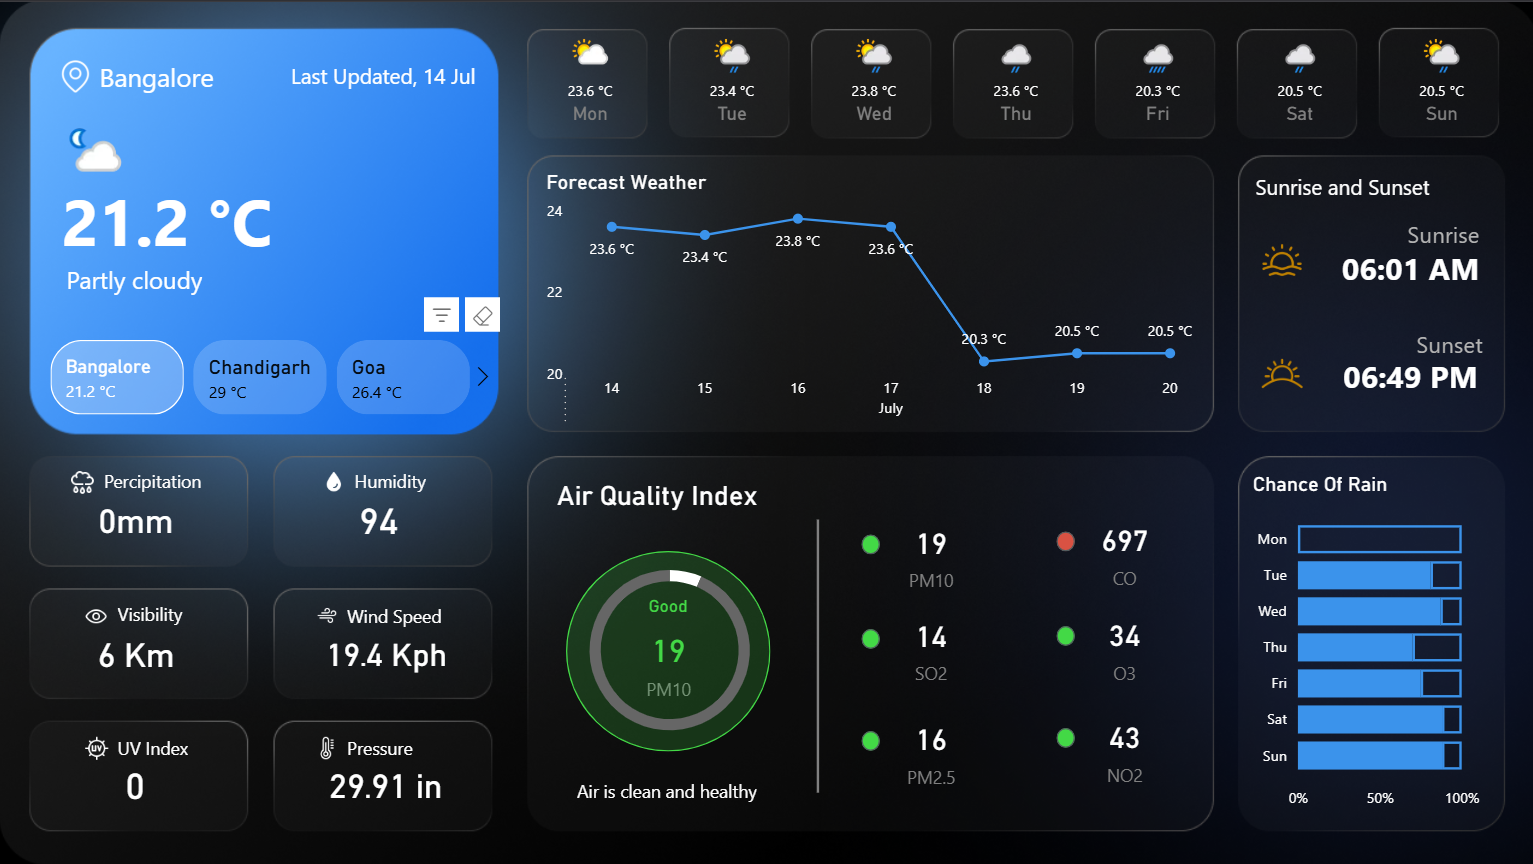

The dashboard page shown, as its layout file describes it:
{"tool":"powerbi","page":{"name":"Page 1","canvas":[1280,720],"ordinal":0},"visuals":[{"type":"advancedSlicerVisual","fields":{"Values":["Locations.location.name"]},"box":[18,276,400,72],"z":0},{"type":"shape","box":[45,131.2,260,100],"z":1000},{"type":"shape","box":[53.8,213.8,166.2,35],"z":2000},{"type":"shape","box":[81.7,43.3,166.7,35],"z":3000},{"type":"shape","box":[186.7,43.3,211.7,35],"z":4000},{"type":"image","box":[45,40,36.7,43.3],"z":5000},{"type":"cardVisual","fields":{"Data":["Min(Current.current.condition.icon)"]},"box":[31.2,66.2,100,128.8],"z":6000},{"type":"shape","box":[85.4,381,104.4,35.6],"z":7000},{"type":"image","box":[52.1,378.7,33.3,40],"z":8000},{"type":"image","box":[264.7,384.2,27.8,28.9],"z":9000},{"type":"shape","box":[292.5,380.8,104.4,35.6],"z":10000},{"type":"image","box":[61.1,495.7,38.8,31.2],"z":11000},{"type":"shape","box":[96.1,491.9,105,35],"z":12000},{"type":"image","box":[256.2,496.4,34.3,27.1],"z":13000},{"type":"shape","box":[286.9,492.1,105,35],"z":14000},{"type":"image","box":[63.6,604.3,35.7,30.7],"z":15000},{"type":"shape","box":[95.7,602.1,105,35],"z":16000},{"type":"image","box":[258.6,603.6,29.3,32.9],"z":17000},{"type":"shape","box":[286.8,602.1,104.7,35.3],"z":18000},{"type":"card","fields":{"Values":["Table.precip"]},"box":[62.9,399.3,102.1,62.1],"z":19000},{"type":"card","fields":{"Values":["Sum(Current.current.humidity)"]},"box":[287,399,57,61],"z":20000},{"type":"card","fields":{"Values":["Table.vis"]},"box":[68.2,511.8,90,60],"z":21000},{"type":"card","fields":{"Values":["Table.wind_speed"]},"box":[258.2,511.8,127.3,60],"z":22000},{"type":"card","fields":{"Values":["Sum(Current.current.uv)"]},"box":[61.7,620,103.3,60],"z":23000},{"type":"card","fields":{"Values":["Table.press"]},"box":[264.4,620,113.3,60],"z":24000},{"type":"advancedSlicerVisual","fields":{"Values":["Focast_Day.day"]},"box":[430.9,20,829.1,100],"z":25000},{"type":"lineChart","title":"Forecast Weather","fields":{"Y":["Avg(Focast_Day.forecast.forecastday.day.avgtemp_c)"],"Category":["Focast_Day.forecast.forecastday.date.Variation.Date Hierarchy.Month","Focast_Day.forecast.forecastday.date.Variation.Date Hierarchy.Day"]},"box":[450,140,559.1,220],"z":26000},{"type":"shape","box":[1042.2,140,194.4,27.8],"z":27000},{"type":"shape","box":[1070,181.1,166.7,80],"z":28000},{"type":"shape","box":[1010,261.1,226.7,100],"z":29000},{"type":"shape","box":[1070,153.3,166.7,80],"z":30000},{"type":"shape","box":[1124.4,261.1,112.2,47.8],"z":31000},{"type":"image","box":[1038.5,277.7,55.4,61.5],"z":32000},{"type":"image","box":[1044.6,180.8,43.1,67.7],"z":33000},{"type":"hundredPercentStackedBarChart","title":"Chance Of Rain","fields":{"Y":["Sum(Focast_Day.forecast.forecastday.day.daily_chance_of_rain)","Current.Left_val_rain"],"Category":["Focast_Day.day"]},"box":[1038.2,390.9,198.2,289.1],"z":34000},{"type":"shape","title":"Air Quality  Index","box":[464,396,282,34],"z":35000},{"type":"card","fields":{"Values":["Sum(Current.current.air_quality.co)"]},"box":[886.7,421.1,97.8,71.1],"z":36000},{"type":"card","fields":{"Values":["Sum(Current.current.air_quality.o3)"]},"box":[886.7,500,97.8,71.1],"z":37000},{"type":"card","fields":{"Values":["Sum(Current.current.air_quality.no2)"]},"box":[886.7,584.4,97.8,71.1],"z":38000},{"type":"card","fields":{"Values":["Sum(Current.current.air_quality.pm10)"]},"box":[725.3,423.9,97.8,70],"z":39000},{"type":"card","fields":{"Values":["Sum(Current.current.air_quality.so2)"]},"box":[725.3,501.7,97.8,70],"z":40000},{"type":"card","fields":{"Values":["Sum(Current.current.air_quality.pm2_5)"]},"box":[725.3,587.2,97.8,70],"z":41000},{"type":"shape","box":[717.7,442.3,15.3,16.5],"z":42000},{"type":"shape","box":[717.7,521.1,15.3,16.5],"z":43000},{"type":"shape","box":[717.7,605.8,15.3,16.5],"z":44000},{"type":"shape","box":[878.8,440.6,15.3,16.5],"z":45000},{"type":"shape","box":[878.8,519.4,15.3,16.5],"z":46000},{"type":"shape","box":[878.8,604.1,15.3,16.5],"z":47000},{"type":"shape","box":[632.9,430,97.1,227.1],"z":48000},{"type":"card","fields":{"Values":["Sum(Current.current.air_quality.pm10)"]},"box":[508.3,493.3,95,91.7],"z":49000},{"type":"shape","box":[471.7,456.7,170,166.7],"z":50000},{"type":"donutChart","fields":{"Y":["Sum(Current.current.air_quality.pm10)","Table.left_pm_10"]},"box":[468.3,430,176.7,216.7],"z":51000},{"type":"shape","box":[415,635,280,43.3],"z":52000}]}

Visuals, with their boxes in screenshot pixels (x1, y1, x2, y2), scaled from the page's 1280x720 canvas onto the 1533x864 screenshot:
advancedSlicerVisual - Locations.location.name: 22/331/501/418
shape: 54/157/365/277
shape: 64/257/263/299
shape: 98/52/297/94
shape: 224/52/477/94
image: 54/48/98/100
cardVisual - Min(Current.current.condition.icon): 37/79/157/234
shape: 102/457/227/500
image: 62/454/102/502
image: 317/461/350/496
shape: 350/457/475/500
image: 73/595/120/632
shape: 115/590/241/632
image: 307/596/348/628
shape: 344/591/469/633
image: 76/725/119/762
shape: 115/723/240/765
image: 310/724/345/764
shape: 343/723/469/765
card - Table.precip: 75/479/198/554
card - Sum(Current.current.humidity): 344/479/412/552
card - Table.vis: 82/614/189/686
card - Table.wind_speed: 309/614/462/686
card - Sum(Current.current.uv): 74/744/198/816
card - Table.press: 317/744/452/816
advancedSlicerVisual - Focast_Day.day: 516/24/1509/144
"Forecast Weather" lineChart: 539/168/1209/432
shape: 1248/168/1481/201
shape: 1281/217/1481/313
shape: 1210/313/1481/433
shape: 1281/184/1481/280
shape: 1347/313/1481/371
image: 1244/333/1310/407
image: 1251/217/1303/298
"Chance Of Rain" hundredPercentStackedBarChart: 1243/469/1481/816
"Air Quality  Index" shape: 556/475/893/516
card - Sum(Current.current.air_quality.co): 1062/505/1179/591
card - Sum(Current.current.air_quality.o3): 1062/600/1179/685
card - Sum(Current.current.air_quality.no2): 1062/701/1179/787
card - Sum(Current.current.air_quality.pm10): 869/509/986/593
card - Sum(Current.current.air_quality.so2): 869/602/986/686
card - Sum(Current.current.air_quality.pm2_5): 869/705/986/789
shape: 860/531/878/551
shape: 860/625/878/645
shape: 860/727/878/747
shape: 1053/529/1071/549
shape: 1053/623/1071/643
shape: 1053/725/1071/745
shape: 758/516/874/789
card - Sum(Current.current.air_quality.pm10): 609/592/723/702
shape: 565/548/769/748
donutChart - Sum(Current.current.air_quality.pm10) x Table.left_pm_10: 561/516/772/776
shape: 497/762/832/814
